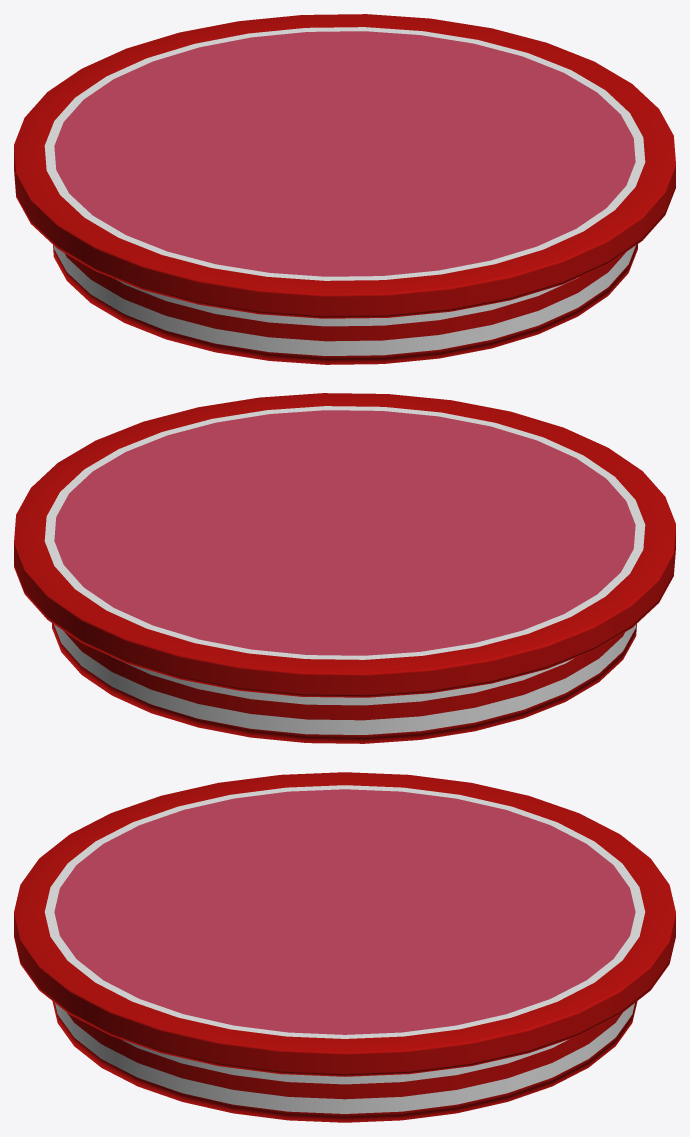
Rendered from Plataforma.glb.
3 views of the same model, one above another, from view 1: azimuth 30°, elevation 25°; view 2: azimuth 150°, elevation 25°; view 3: azimuth 270°, elevation 25° (orthographic).
Visible parts, largest first — view 1: Plataforma; view 2: Plataforma; view 3: Plataforma.
Part boxes in pixels (<box>): Plataforma: <box>14,14,675,364</box>; Plataforma: <box>14,393,675,743</box>; Plataforma: <box>14,772,675,1122</box>.
Bounding box in the file's own units: 0.4574 × 0.0662 × 0.4574.
